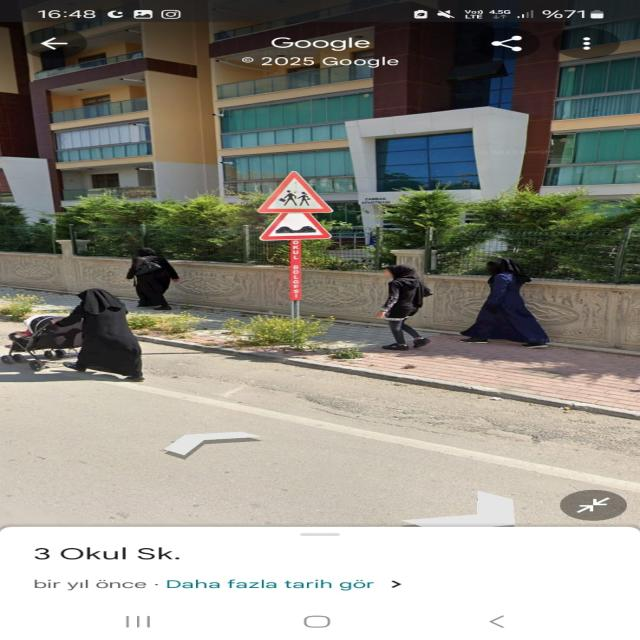okul_gecidi: (256, 169, 334, 213)
